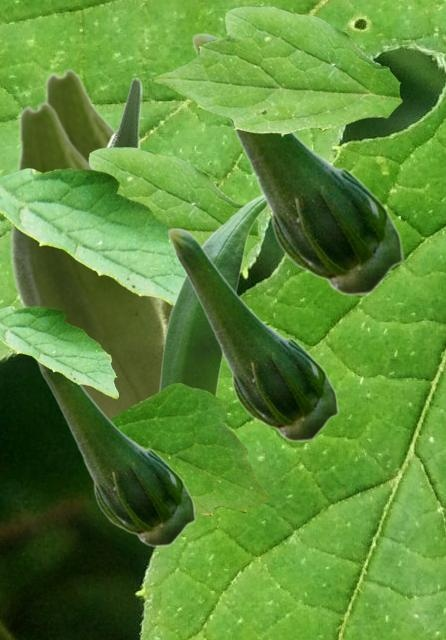okra: (191, 32, 403, 295), (9, 101, 171, 418), (167, 227, 338, 441), (35, 360, 195, 546), (157, 195, 267, 396), (43, 68, 115, 158), (106, 76, 141, 148)
